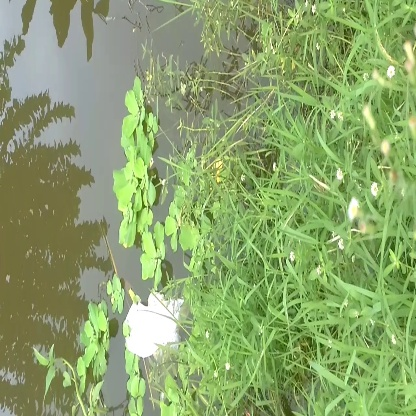plastic-bag: (115, 282, 191, 358)
